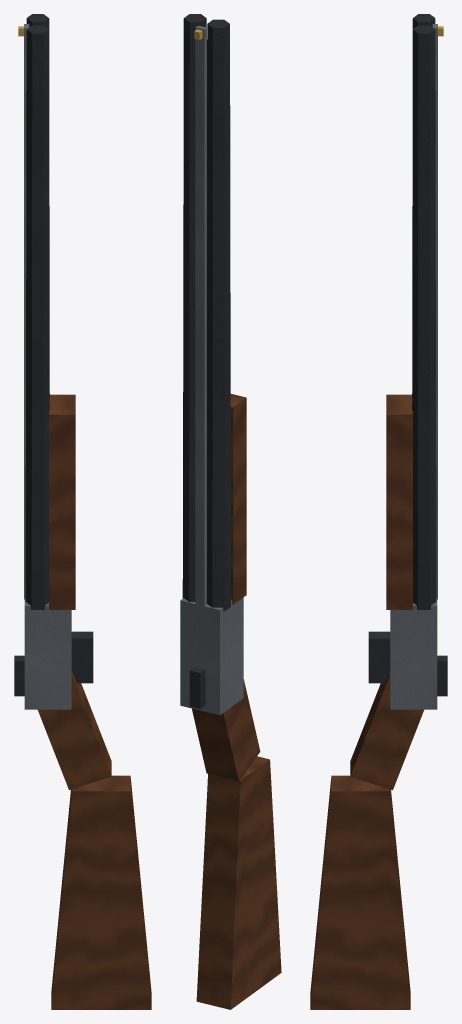
The model's file is weapon_double_barrel.glb.
The picture shows the model from 3 angles, left to right: view 1: azimuth 90°, elevation 25°; view 2: azimuth 150°, elevation 25°; view 3: azimuth 270°, elevation 25°; orthographic projection.
Parts seen in each view (by area): view 1: Weapon_DoubleBarrel; view 2: Weapon_DoubleBarrel; view 3: Weapon_DoubleBarrel.
Part boxes in pixels (x1=…): Weapon_DoubleBarrel: x1=14, y1=14, x2=151, y2=1009; Weapon_DoubleBarrel: x1=180, y1=14, x2=281, y2=1009; Weapon_DoubleBarrel: x1=310, y1=14, x2=447, y2=1009.
Bounding box in the file's own units: 0.0468 × 1.05 × 0.134.
Materials: 4 (4 with a texture image).
